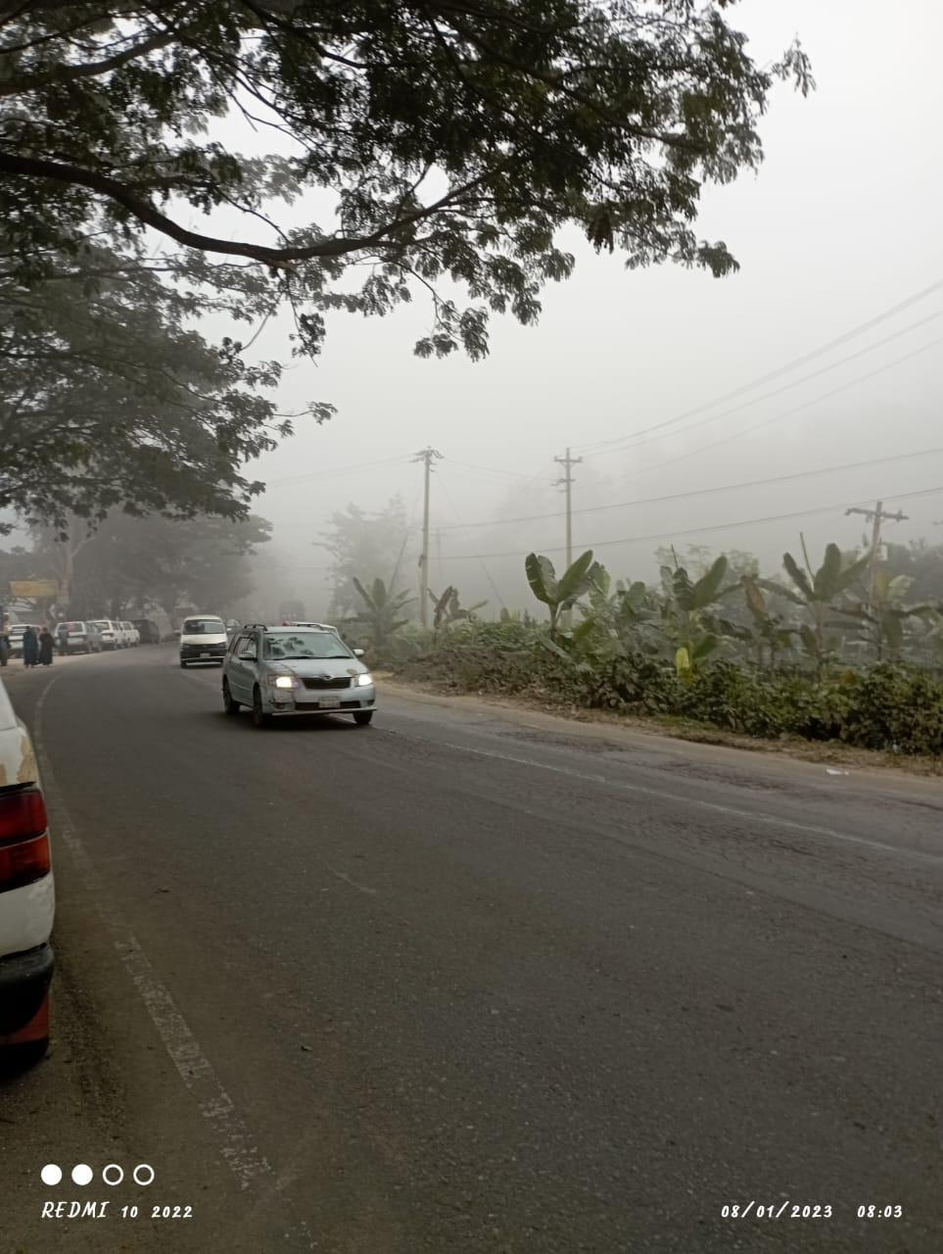Car: (216, 622, 380, 729), (174, 607, 236, 670)
